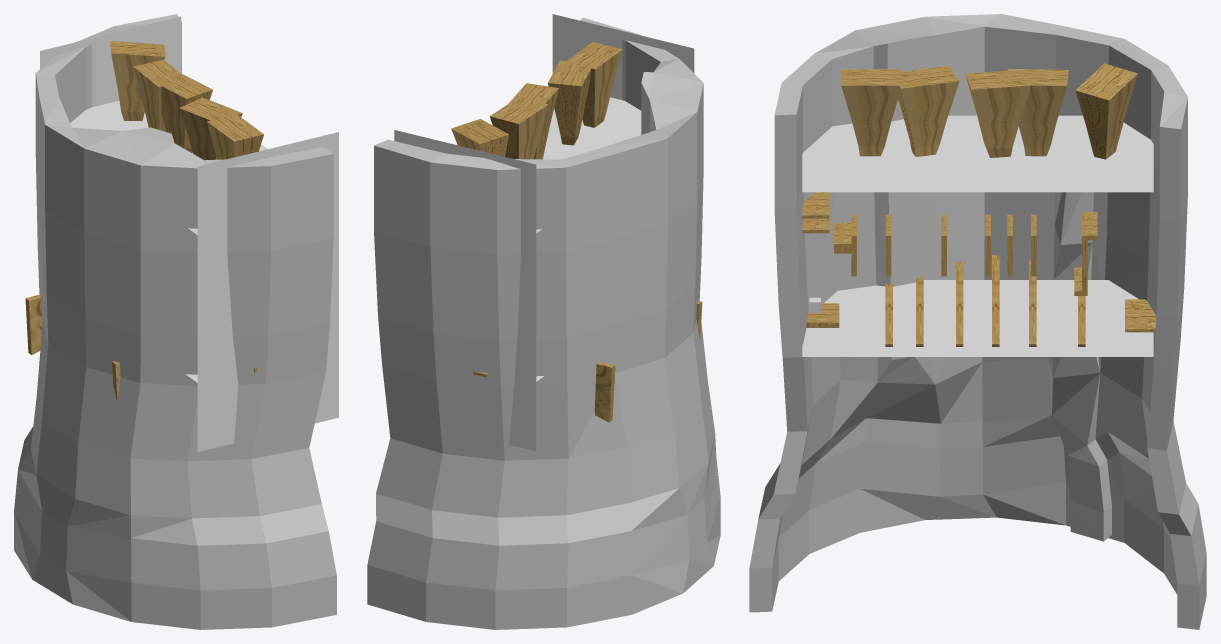
The model's file is junglelvl3.FBX.
The picture shows the model from 3 angles, left to right: view 1: azimuth 30°, elevation 25°; view 2: azimuth 150°, elevation 25°; view 3: azimuth 270°, elevation 25°; orthographic projection. The views are drawn at different scales.
Visible parts, largest first — view 1: Tube001, Plane003, Plane004, Box031, Box029, Box028, Box023, Box030, Plane002, Box033; view 2: Tube001, Plane004, Plane003, Plane002, Box028, Box023, Box030, Box031, Box029, Box033; view 3: Tube001, Plane001, Plane002, Box028, Box029, Box023, Box031, Box030, Box003, Box016, Box001, Box034 (+1 smaller).
Part boxes in pixels (x1,y1,x2,y2): Tube001: (14, 14, 336, 629); Plane003: (197, 132, 338, 451); Plane004: (40, 16, 181, 106); Box031: (110, 41, 165, 120); Box029: (152, 72, 212, 152); Box028: (179, 97, 242, 160); Box023: (207, 114, 263, 159); Box030: (133, 59, 187, 131); Plane002: (70, 100, 267, 234); Box033: (25, 294, 42, 354); Tube001: (367, 17, 720, 629); Plane004: (394, 130, 536, 451); Plane003: (552, 14, 694, 99); Plane002: (536, 97, 641, 233); Box028: (547, 60, 591, 145); Box023: (566, 42, 622, 127); Box030: (490, 96, 548, 159); Box031: (451, 119, 508, 156); Box029: (507, 83, 558, 159); Box033: (594, 362, 615, 422); Tube001: (749, 14, 1206, 629); Plane001: (802, 280, 1153, 356); Plane002: (802, 115, 1153, 192); Box028: (892, 65, 959, 156); Box029: (965, 69, 1030, 157); Box023: (841, 69, 901, 156); Box031: (1075, 63, 1137, 159); Box030: (1006, 69, 1068, 156); Box003: (1125, 299, 1156, 332); Box016: (992, 255, 999, 346); Box001: (806, 303, 839, 327); Box034: (956, 260, 963, 346).
Size of the model in its own units: 1642 by 3205 by 2579.
